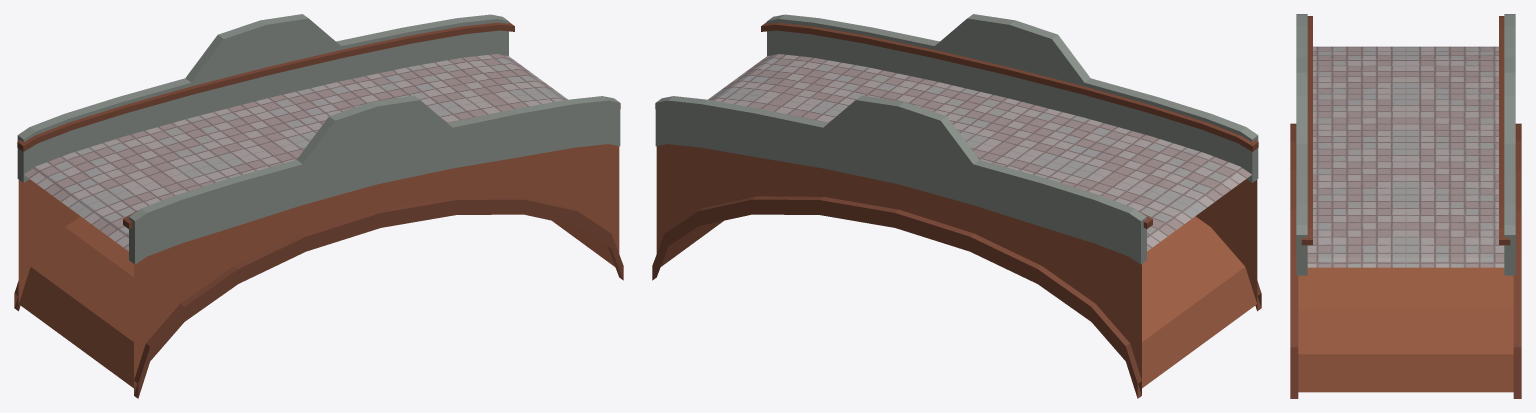
Rendered from RiverBridge.glb.
The picture shows the model from 3 angles, left to right: view 1: azimuth 30°, elevation 25°; view 2: azimuth 150°, elevation 25°; view 3: azimuth 270°, elevation 25°; orthographic projection. The views are drawn at different scales.
Visible parts, largest first — view 1: Circle; view 2: Circle; view 3: Circle.
Boxes of the visible parts, x1=… form: Circle: x1=14, y1=14, x2=623, y2=398; Circle: x1=652, y1=14, x2=1261, y2=398; Circle: x1=1290, y1=14, x2=1521, y2=398.
Size of the model in its own units: 12.77 by 5.74 by 5.57.
2 materials, 2 textured.
